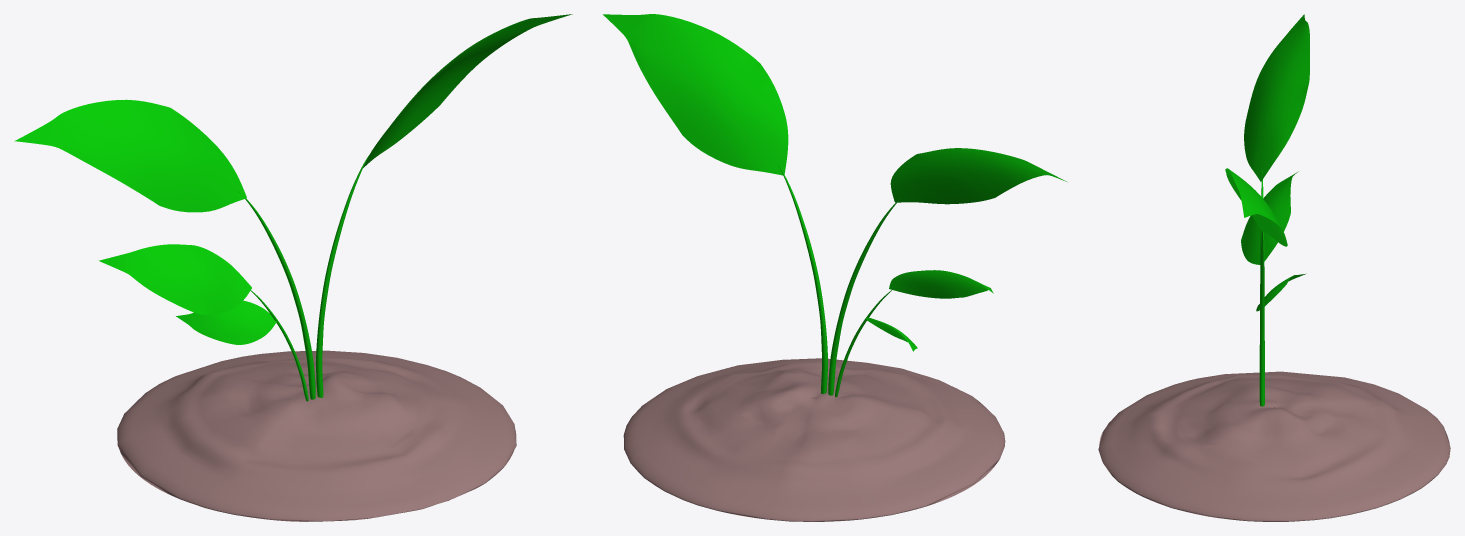
The model's file is sprot.fbx.
3 views of the same model, side by side, from view 1: azimuth 30°, elevation 25°; view 2: azimuth 150°, elevation 25°; view 3: azimuth 270°, elevation 25° (orthographic). The views are drawn at different scales.
Visible parts, largest first — view 1: Ground_Dirt, leaf6, leaf2, new_plant_3:planarTrimmedSurface3, leaf1, leaf5, leaf7; view 2: Ground_Dirt, new_plant_3:planarTrimmedSurface3, leaf6, leaf2, leaf5, leaf7; view 3: Ground_Dirt, leaf6, leaf2, new_plant_3:planarTrimmedSurface3, leaf5.
Boxes of the visible parts, box(x1,y1,x2,y2) form: Ground_Dirt: box(117, 350, 516, 521); leaf6: box(14, 99, 246, 212); leaf2: box(98, 244, 251, 314); new_plant_3:planarTrimmedSurface3: box(363, 14, 572, 167); leaf1: box(176, 300, 276, 344); leaf5: box(316, 156, 368, 397); leaf7: box(238, 191, 315, 399); Ground_Dirt: box(623, 358, 1005, 521); new_plant_3:planarTrimmedSurface3: box(603, 14, 788, 175); leaf6: box(890, 148, 1066, 204); leaf2: box(889, 270, 993, 298); leaf5: box(776, 161, 827, 393); leaf7: box(828, 198, 901, 395); Ground_Dirt: box(1098, 371, 1450, 521); leaf6: box(1244, 14, 1309, 181); leaf2: box(1241, 171, 1298, 264); new_plant_3:planarTrimmedSurface3: box(1225, 168, 1287, 246); leaf5: box(1259, 231, 1264, 406).
Size of the model in its own units: 26.91 by 19.01 by 17.78.
